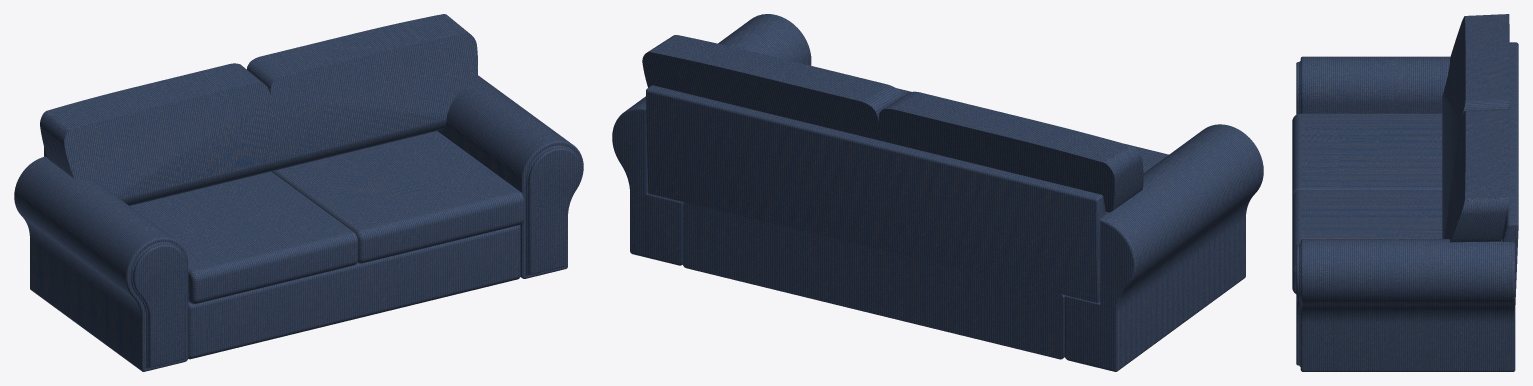
File: couch.dae
3 views of the same model, side by side, from view 1: azimuth 30°, elevation 25°; view 2: azimuth 150°, elevation 25°; view 3: azimuth 270°, elevation 25° (orthographic). The views are drawn at different scales.
Visible parts, largest first — view 1: Cushion_Back (×2), Cushion (×4), group_3 (×4), group_2, group_4 (×2); view 2: group_1, group_3 (×4), Cushion_Back (×2), group_2; view 3: group_3 (×4), Cushion (×4), Cushion_Back (×2), group_1 (×2), group_4 (×2).
Part boxes in pixels (box(x1,y1,x2,y2)): Cushion_Back (×2): box(40, 14, 477, 205); Cushion (×4): box(130, 131, 524, 304); group_3 (×4): box(14, 75, 583, 371); group_2: box(188, 225, 520, 359); group_4 (×2): box(131, 145, 580, 368); group_1: box(646, 85, 1105, 302); group_3 (×4): box(612, 14, 1263, 371); Cushion_Back (×2): box(642, 35, 1143, 212); group_2: box(682, 202, 1063, 359); group_3 (×4): box(1300, 56, 1515, 371); Cushion (×4): box(1292, 113, 1442, 293); Cushion_Back (×2): box(1442, 14, 1509, 242); group_1 (×2): box(1501, 42, 1518, 304); group_4 (×2): box(1296, 61, 1300, 366).
Size of the model in its own units: 88 by 39.86 by 33.09.
Materials: 2 (2 with a texture image).
